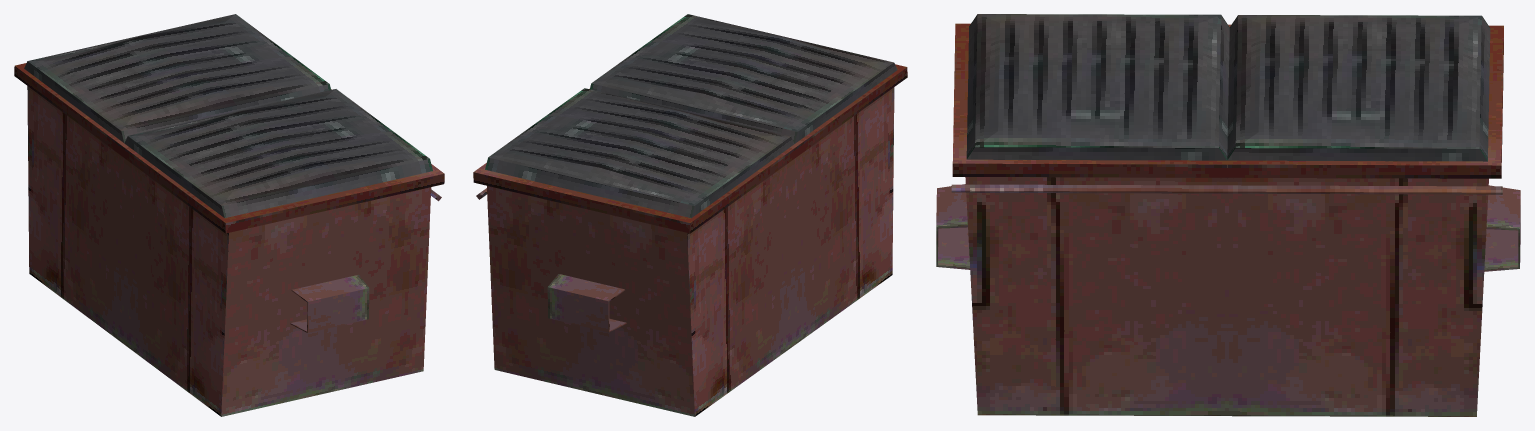
File: dumpster_lid_closed_red.glb
3 renders of one model, left to right at view 1: azimuth 30°, elevation 25°; view 2: azimuth 150°, elevation 25°; view 3: azimuth 270°, elevation 25°, orthographic. The views are drawn at different scales.
Visible parts, largest first — view 1: dumpster_lid_closed_red; view 2: dumpster_lid_closed_red; view 3: dumpster_lid_closed_red.
Boxes of the visible parts, x1,y1,x2,y2 form: dumpster_lid_closed_red: [14, 14, 444, 416]; dumpster_lid_closed_red: [473, 14, 907, 416]; dumpster_lid_closed_red: [936, 14, 1520, 416].
Bounding box in the file's own units: 2.06 × 1.96 × 3.68.
Materials: 1 (1 with a texture image).
